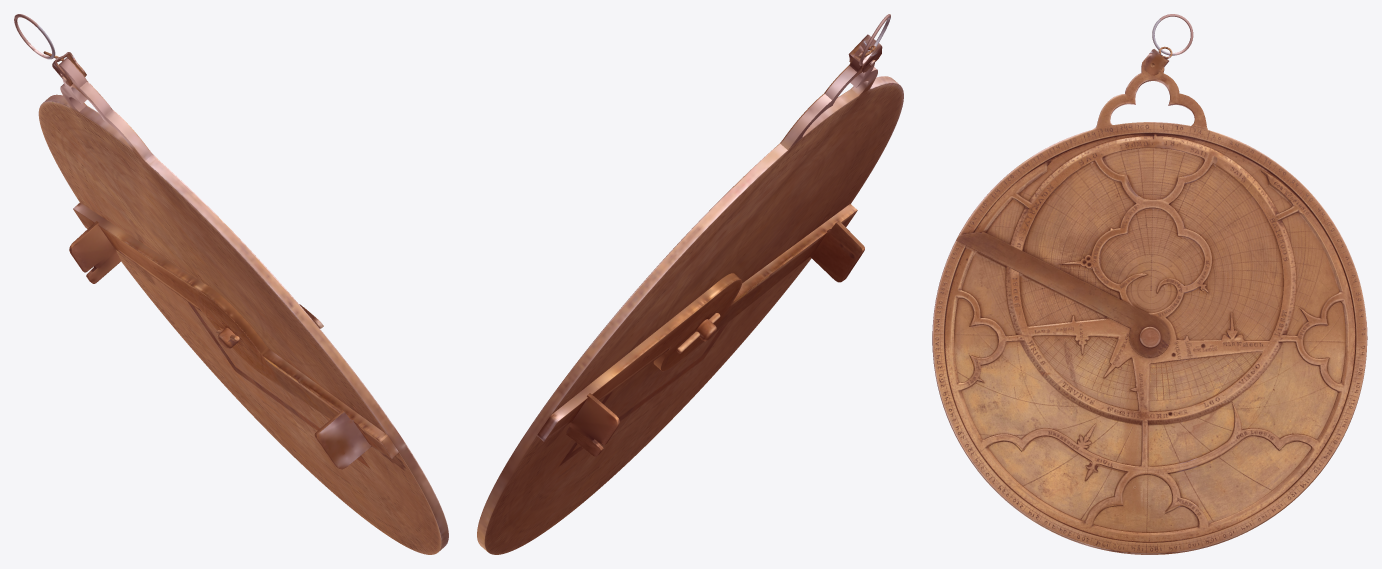
Rendered from astrolabe.glb.
The picture shows the model from 3 angles, left to right: view 1: azimuth 30°, elevation 25°; view 2: azimuth 150°, elevation 25°; view 3: azimuth 270°, elevation 25°; orthographic projection. The views are drawn at different scales.
Parts seen in each view (by area): view 1: Object_3; view 2: Object_3; view 3: Object_3.
Boxes of the visible parts, x1=… form: Object_3: x1=14, y1=14, x2=448, y2=554; Object_3: x1=477, y1=14, x2=903, y2=554; Object_3: x1=932, y1=14, x2=1367, y2=554.
Bounding box in the file's own units: 14.41 × 23.33 × 21.78.
Materials: 1 (1 with a texture image).
